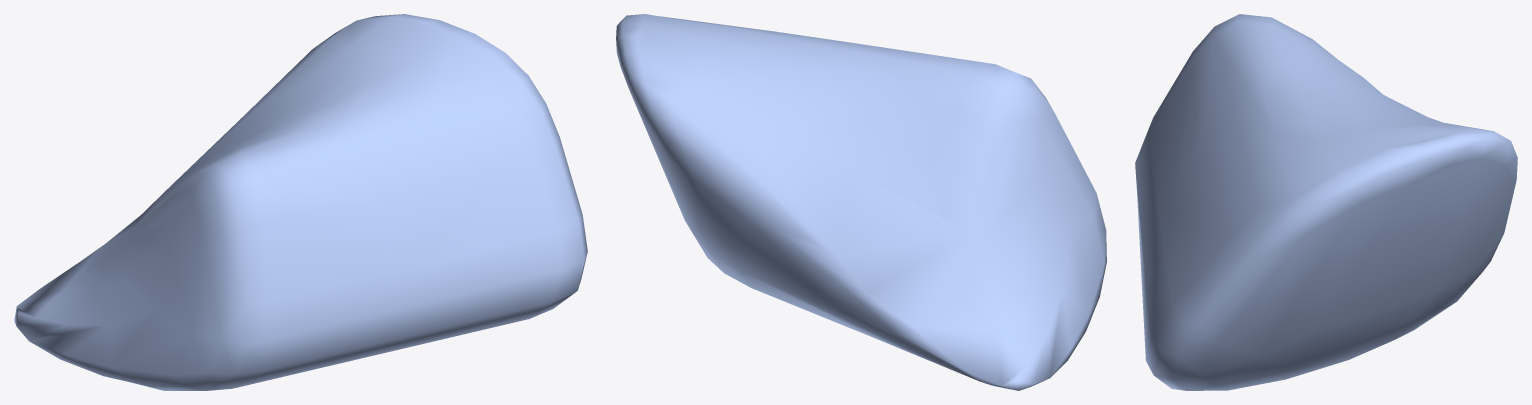
File: Stone 2.fbx
3 views of the same model, side by side, from view 1: azimuth 30°, elevation 25°; view 2: azimuth 150°, elevation 25°; view 3: azimuth 270°, elevation 25° (orthographic). The views are drawn at different scales.
Parts seen in each view (by area): view 1: Stone 2; view 2: Stone 2; view 3: Stone 2.
Boxes of the visible parts, bbox=[...] form: Stone 2: bbox=[14, 14, 587, 390]; Stone 2: bbox=[616, 14, 1106, 390]; Stone 2: bbox=[1135, 14, 1517, 390].
Size of the model in its own units: 168 by 81.19 by 107.
